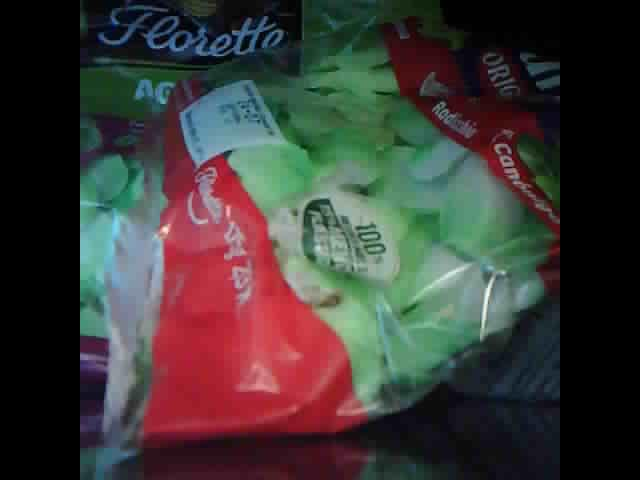florette: (123, 19, 559, 445), (79, 1, 385, 408)
